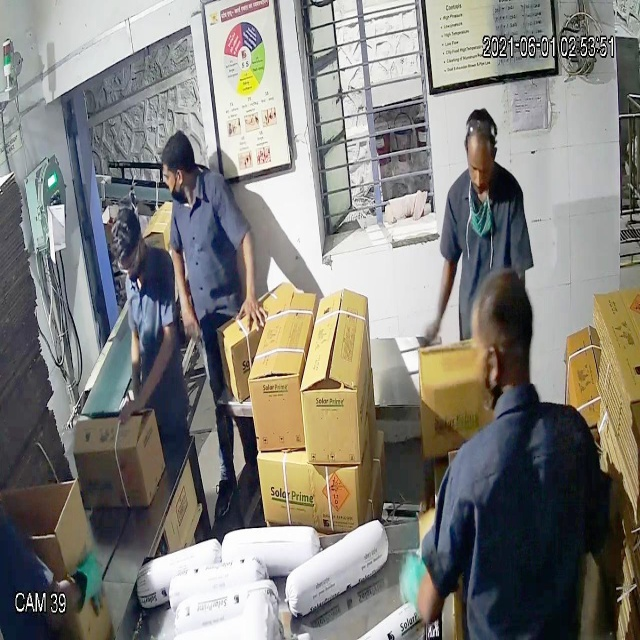Gafas: (111, 242, 146, 283)
